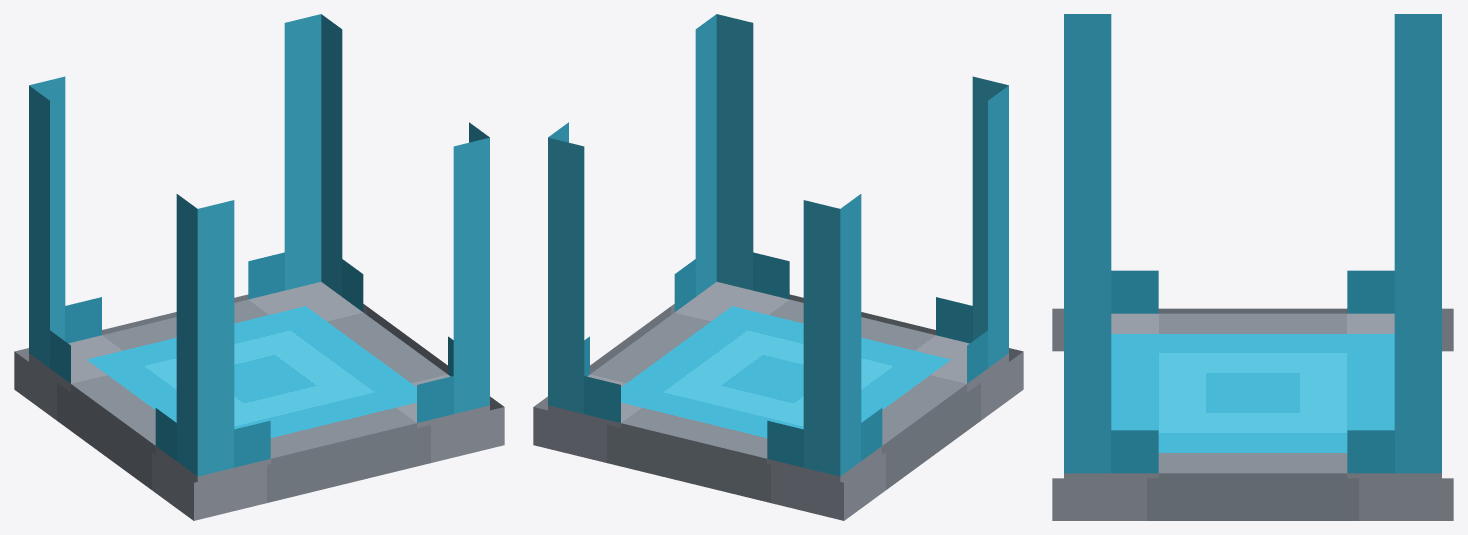
File: Small Light Blue Pod.glb
The picture shows the model from 3 angles, left to right: view 1: azimuth 30°, elevation 25°; view 2: azimuth 150°, elevation 25°; view 3: azimuth 270°, elevation 25°; orthographic projection. The views are drawn at different scales.
Parts seen in each view (by area): view 1: cube; view 2: cube; view 3: cube.
Boxes of the visible parts, left/top/right/bottom form: cube: left=14, top=14, right=504, bottom=520; cube: left=533, top=14, right=1023, bottom=520; cube: left=1052, top=14, right=1453, bottom=520.
Size of the model in its own units: 1.06 by 1 by 1.06.
1 material, 1 textured.
